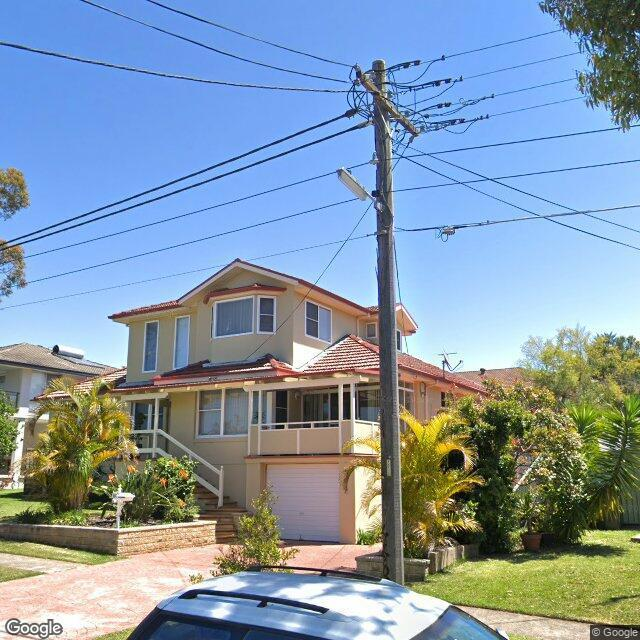crossarm: (358, 71, 422, 136)
streetlight: (336, 166, 384, 212)
timber-pole: (372, 60, 403, 587)
